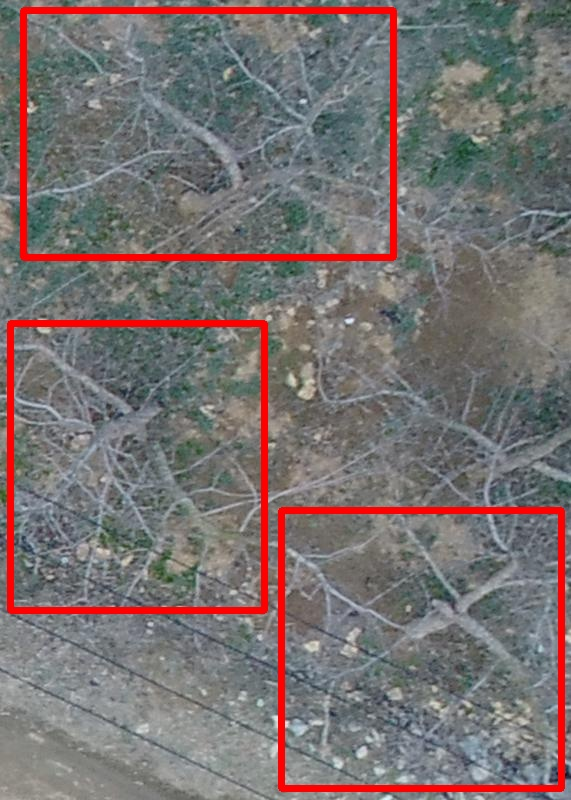apple: (23, 10, 393, 257), (281, 510, 561, 788), (10, 323, 264, 610)
